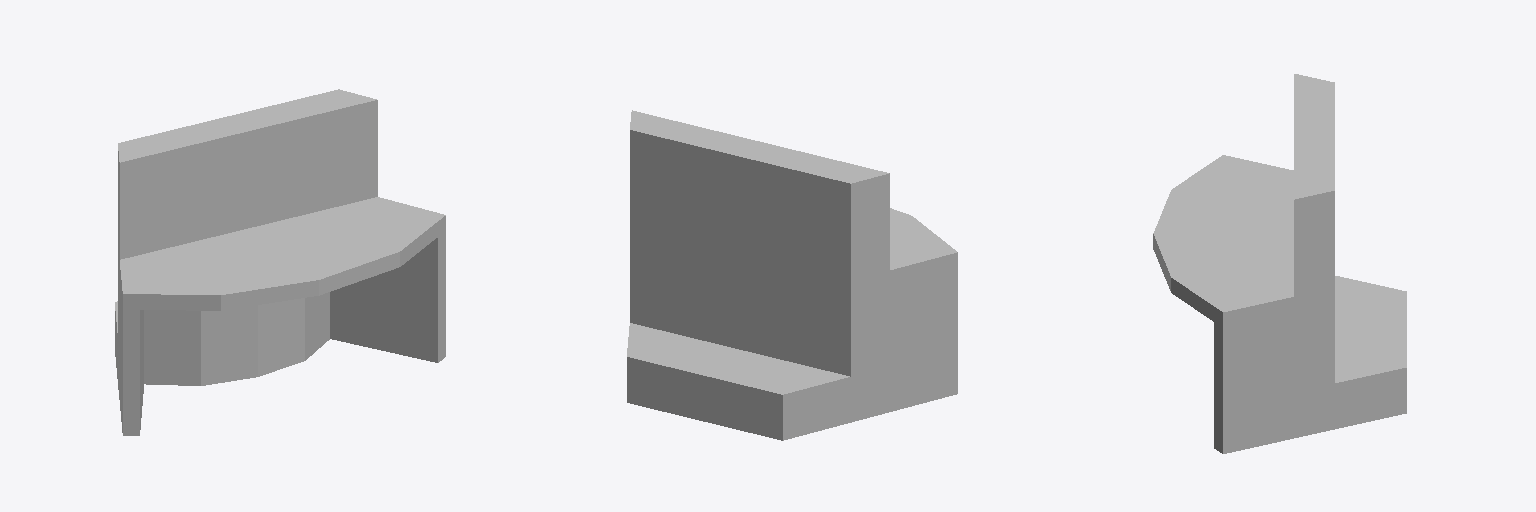
The model's file is DeskEPM.obj.
3 views of the same model, side by side, from view 1: azimuth 30°, elevation 25°; view 2: azimuth 150°, elevation 25°; view 3: azimuth 270°, elevation 25° (orthographic).
Parts seen in each view (by area): view 1: Plane.133_Plane.059; view 2: Plane.133_Plane.059; view 3: Plane.133_Plane.059.
Boxes of the visible parts, x1=… form: Plane.133_Plane.059: x1=115, y1=89, x2=445, y2=435; Plane.133_Plane.059: x1=627, y1=110, x2=957, y2=440; Plane.133_Plane.059: x1=1153, y1=74, x2=1406, y2=453.
Bounding box in the file's own units: 2.39 × 1.69 × 1.62.